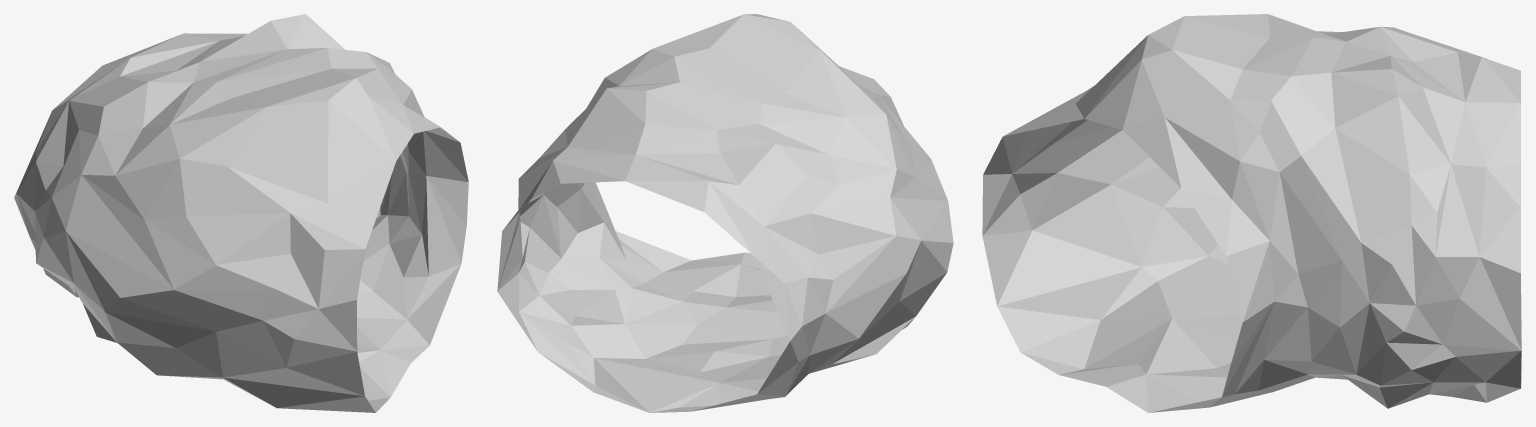
Rendered from BendL_Short_Rock_1.glb.
3 views of the same model, side by side, from view 1: azimuth 30°, elevation 25°; view 2: azimuth 150°, elevation 25°; view 3: azimuth 270°, elevation 25° (orthographic). The views are drawn at different scales.
Parts seen in each view (by area): view 1: BendL_Short_Rock_1; view 2: BendL_Short_Rock_1; view 3: BendL_Short_Rock_1.
Part boxes in pixels (x1,y1,x2,y2): BendL_Short_Rock_1: (14,14,468,412); BendL_Short_Rock_1: (497,14,953,412); BendL_Short_Rock_1: (982,14,1521,412).
Size of the model in its own units: 126 by 91.34 by 130.
Materials: 1 (1 with a texture image).
